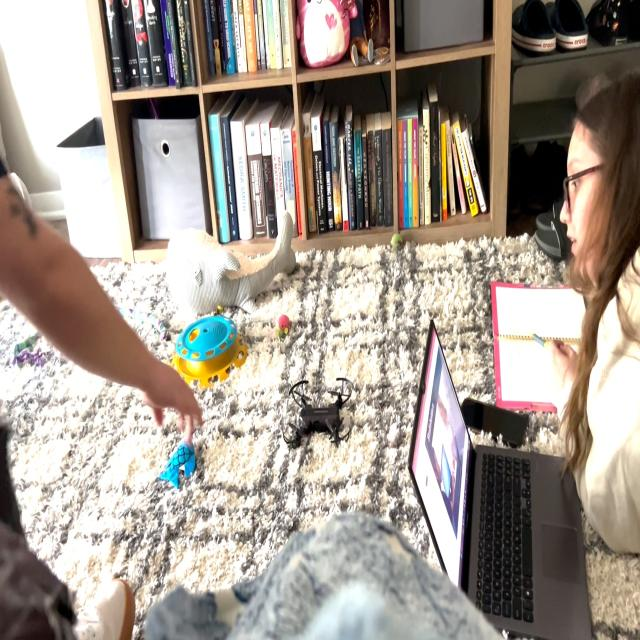drone: (272, 371, 366, 459)
